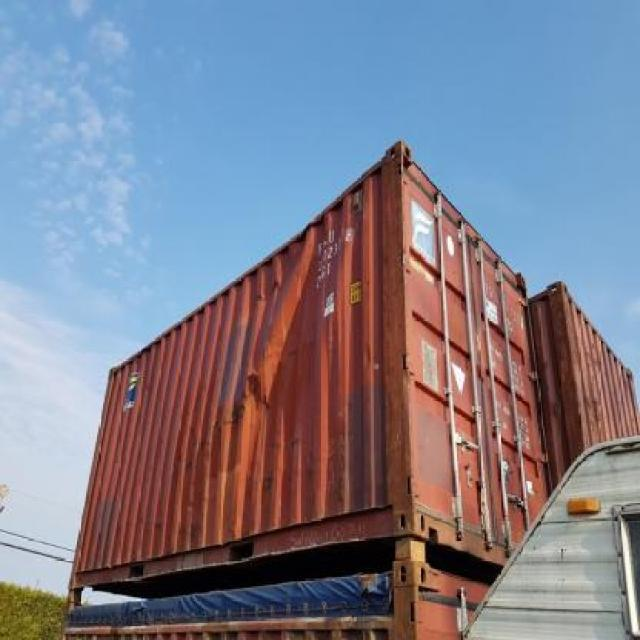Dent: (256, 209, 325, 409), (243, 220, 312, 397)
Minor-Dent: (182, 391, 262, 491)
Rust: (381, 155, 414, 514)
